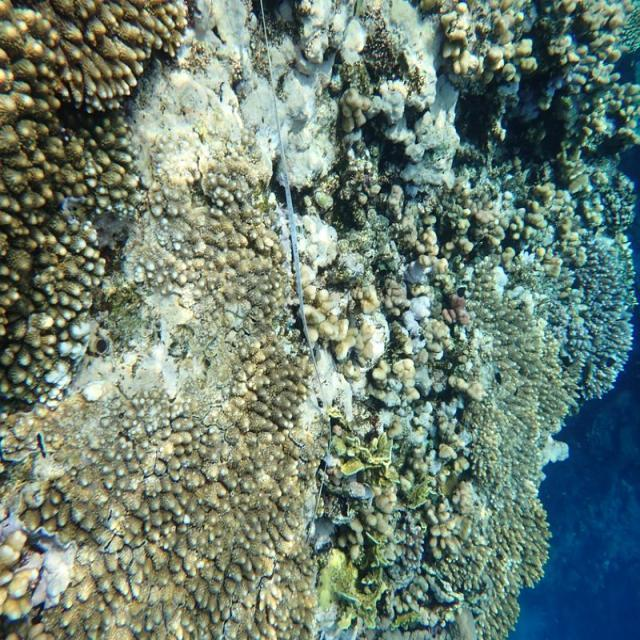Bleached Coral: (336, 0, 462, 208), (220, 0, 330, 184), (297, 227, 383, 415), (535, 427, 565, 483)
Healthy Coral: (0, 365, 299, 639), (0, 0, 190, 356)
